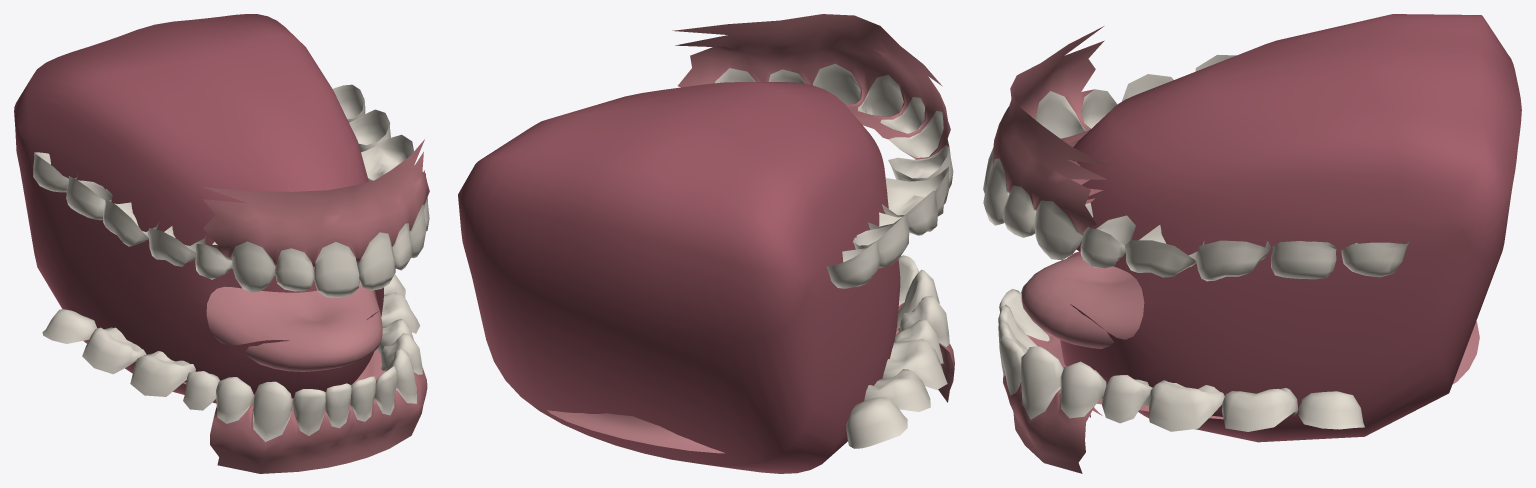
File: gnm_oral_anatomy.glb
3 renders of one model, left to right at view 1: azimuth 30°, elevation 25°; view 2: azimuth 150°, elevation 25°; view 3: azimuth 270°, elevation 25°, orthographic. The views are drawn at different scales.
Parts seen in each view (by area): view 1: GNM_MouthSock, GNM_UpperTeethGums, GNM_LowerTeethGums, GNM_Tongue; view 2: GNM_MouthSock, GNM_UpperTeethGums, GNM_LowerTeethGums, GNM_Tongue; view 3: GNM_MouthSock, GNM_UpperTeethGums, GNM_LowerTeethGums, GNM_Tongue.
Boxes of the visible parts, box(x1,y1,x2,y2) form: GNM_MouthSock: box(14, 14, 383, 403); GNM_UpperTeethGums: box(33, 84, 429, 297); GNM_LowerTeethGums: box(42, 274, 427, 473); GNM_Tongue: box(183, 281, 385, 410); GNM_MouthSock: box(458, 82, 900, 473); GNM_UpperTeethGums: box(672, 14, 953, 288); GNM_LowerTeethGums: box(846, 255, 954, 448); GNM_Tongue: box(547, 328, 898, 453); GNM_MouthSock: box(1060, 14, 1521, 442); GNM_UpperTeethGums: box(983, 26, 1409, 281); GNM_LowerTeethGums: box(998, 280, 1364, 473); GNM_Tongue: box(1021, 254, 1479, 419).
Bounding box in the file's own units: 0.0704 × 0.0603 × 0.0812.
